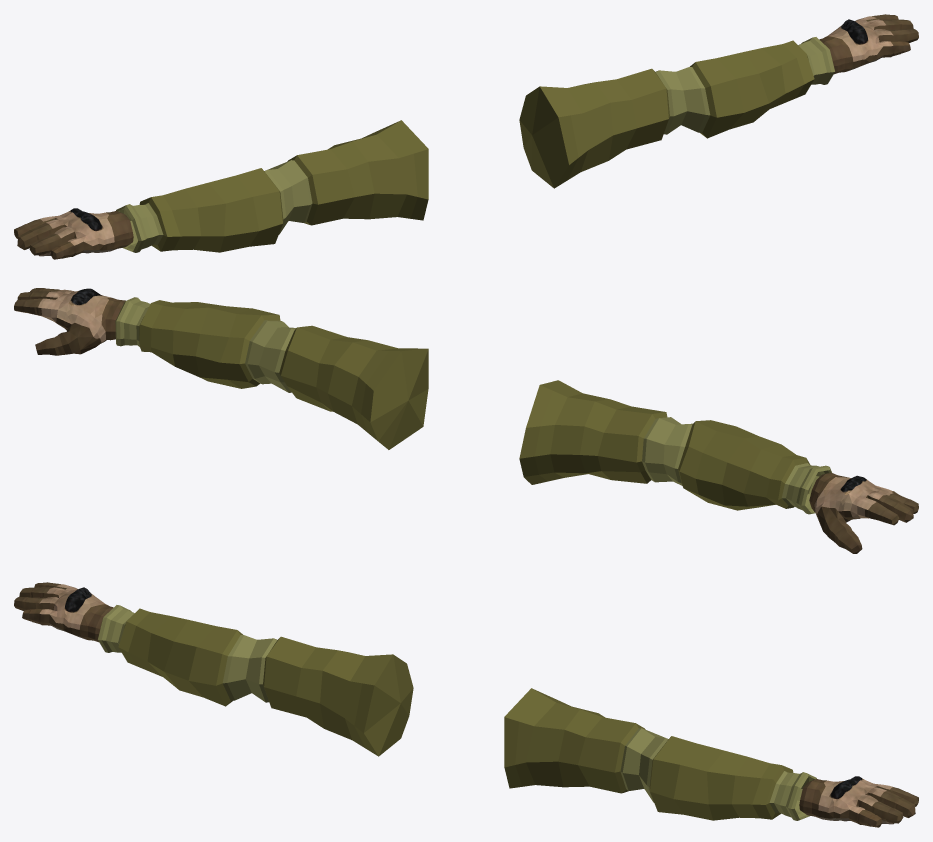
File: Arm Test.fbx
3 renders of one model, top to bottom at view 1: azimuth 30°, elevation 25°; view 2: azimuth 150°, elevation 25°; view 3: azimuth 330°, elevation 25°, orthographic.
Visible parts, largest first — view 1: New Gloves Test; view 2: New Gloves Test; view 3: New Gloves Test.
Part boxes in pixels (bbox=[...]): New Gloves Test: bbox=[14, 14, 918, 259]; New Gloves Test: bbox=[14, 288, 918, 553]; New Gloves Test: bbox=[14, 582, 918, 827].
Size of the model in its own units: 2.18 by 0.2146 by 0.2437.
